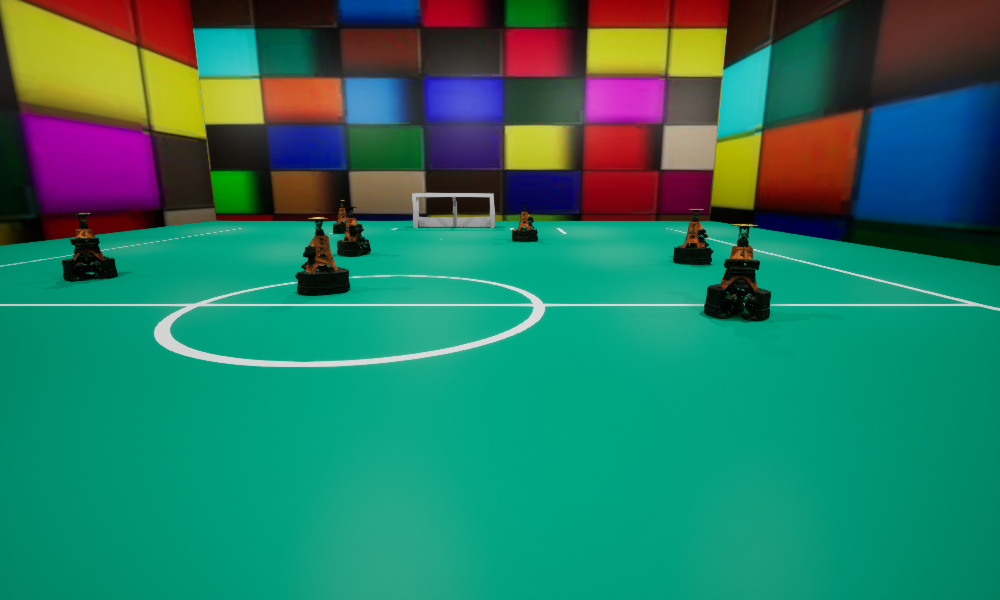0 orange robot TechUnited: (704, 224, 770, 319), (295, 217, 349, 295), (62, 213, 117, 281), (673, 209, 713, 264), (337, 207, 370, 256), (512, 203, 537, 241), (333, 200, 354, 233)
